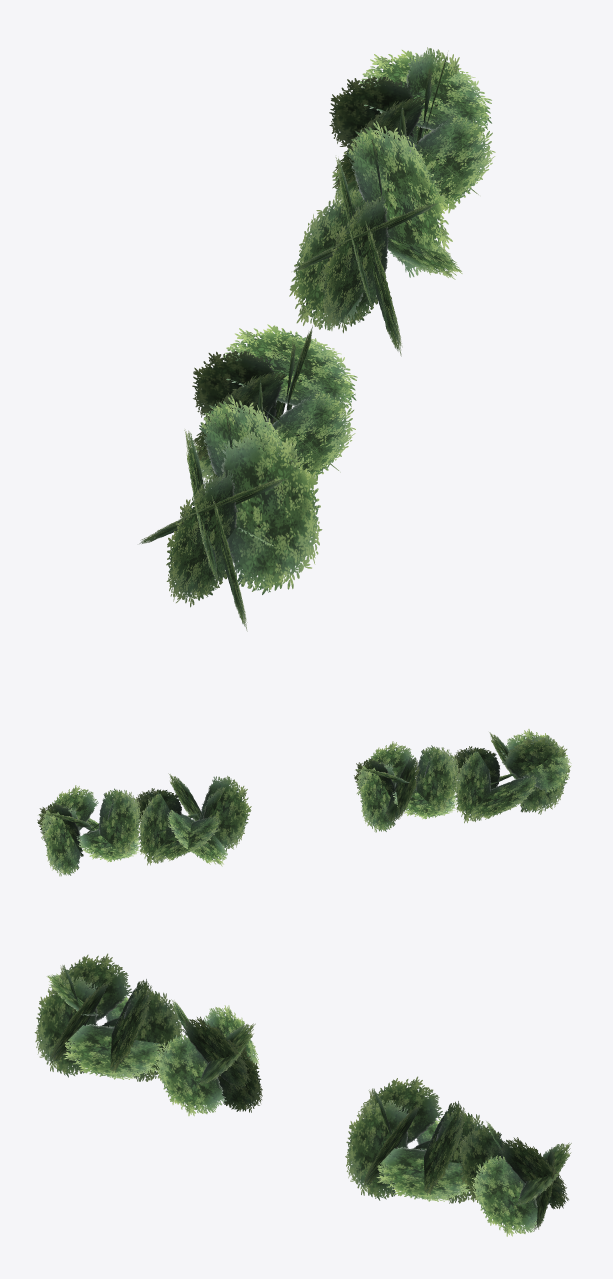
File: Grass_3.fbx
3 views of the same model, one above another, from view 1: azimuth 30°, elevation 25°; view 2: azimuth 150°, elevation 25°; view 3: azimuth 270°, elevation 25° (orthographic). The views are drawn at different scales.
Visible parts, largest first — view 1: Plane.016; view 2: Plane.016; view 3: Plane.016.
Boxes of the visible parts, bbox=[...] form: Plane.016: bbox=[139, 47, 495, 631]; Plane.016: bbox=[37, 729, 571, 876]; Plane.016: bbox=[34, 953, 571, 1236].
Bounding box in the file's own units: 22.05 × 6.85 × 22.26.
1 material, 1 textured.
